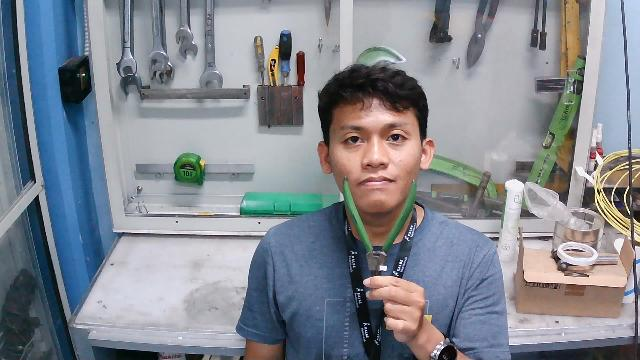tang_cucut_lancip_2: (337, 174, 425, 292)
